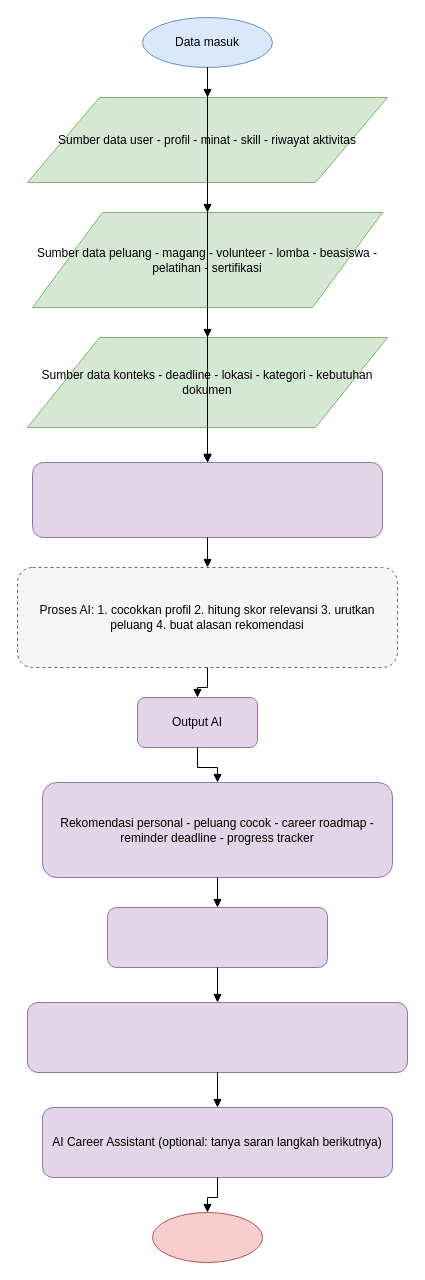
Some shapes in this 425 by 1280 pixel diagram are drawn without their labels. Each missing label, with the centre of its shape:
Digital portfolio & achievement tracking diperbarui: the point at 217,1037
Konexa AI Recommendation Engine: the point at 207,500
Mahasiswa membuka dashboard: the point at 217,937
Selesai: the point at 207,1237
